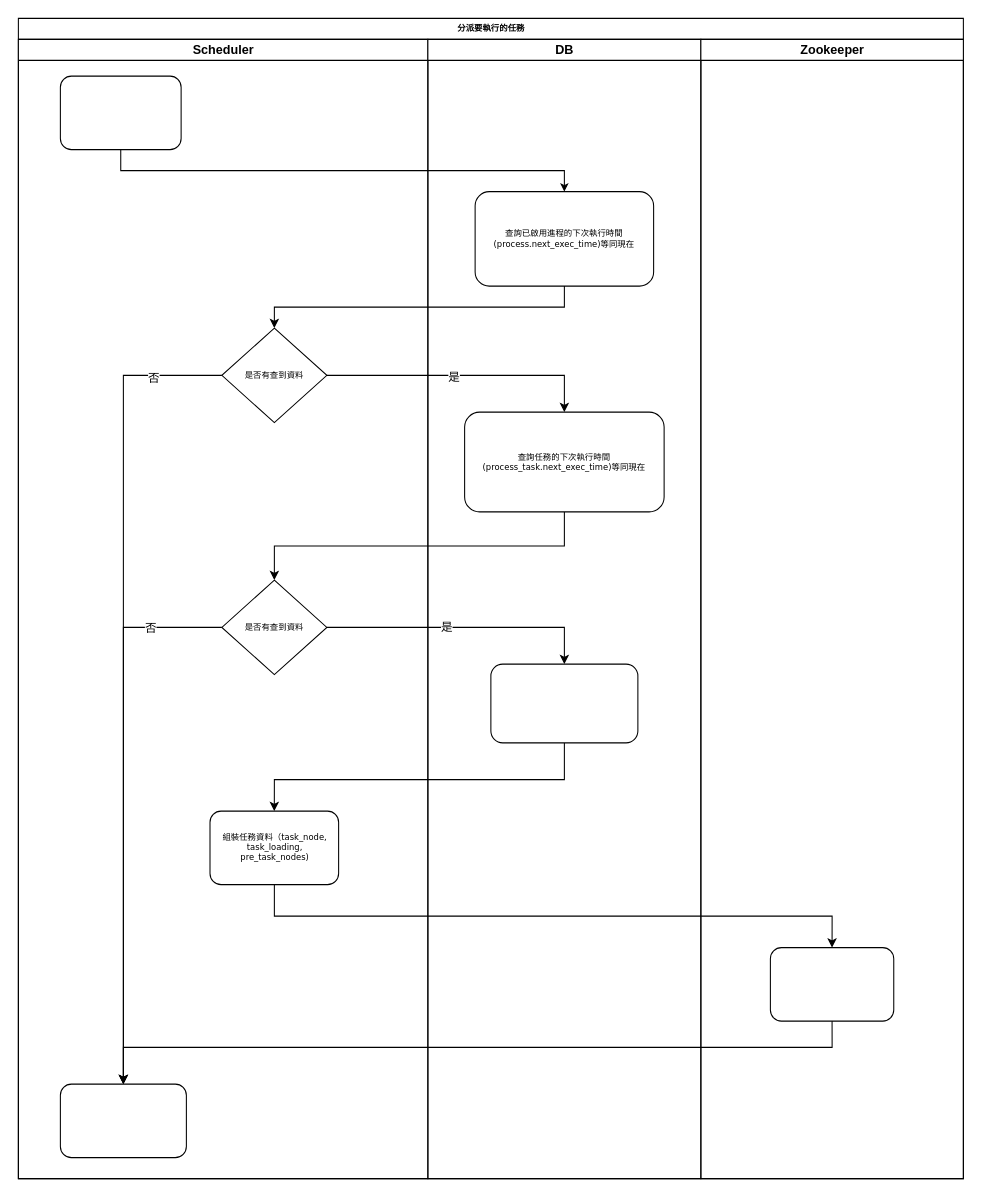
Some shapes in this 982 by 1197 pixel diagram are drawn without their labels. Here are the shapes that lost their labels. From the top down, the centre of each, then its label:
At (x=120, y=112): "開始流程(每15秒執行一次)".
At (x=564, y=703): "建立進程紀錄(process_record)".
At (x=831, y=984): "寫入節點資訊".
At (x=122, y=1120): "結束流程".
